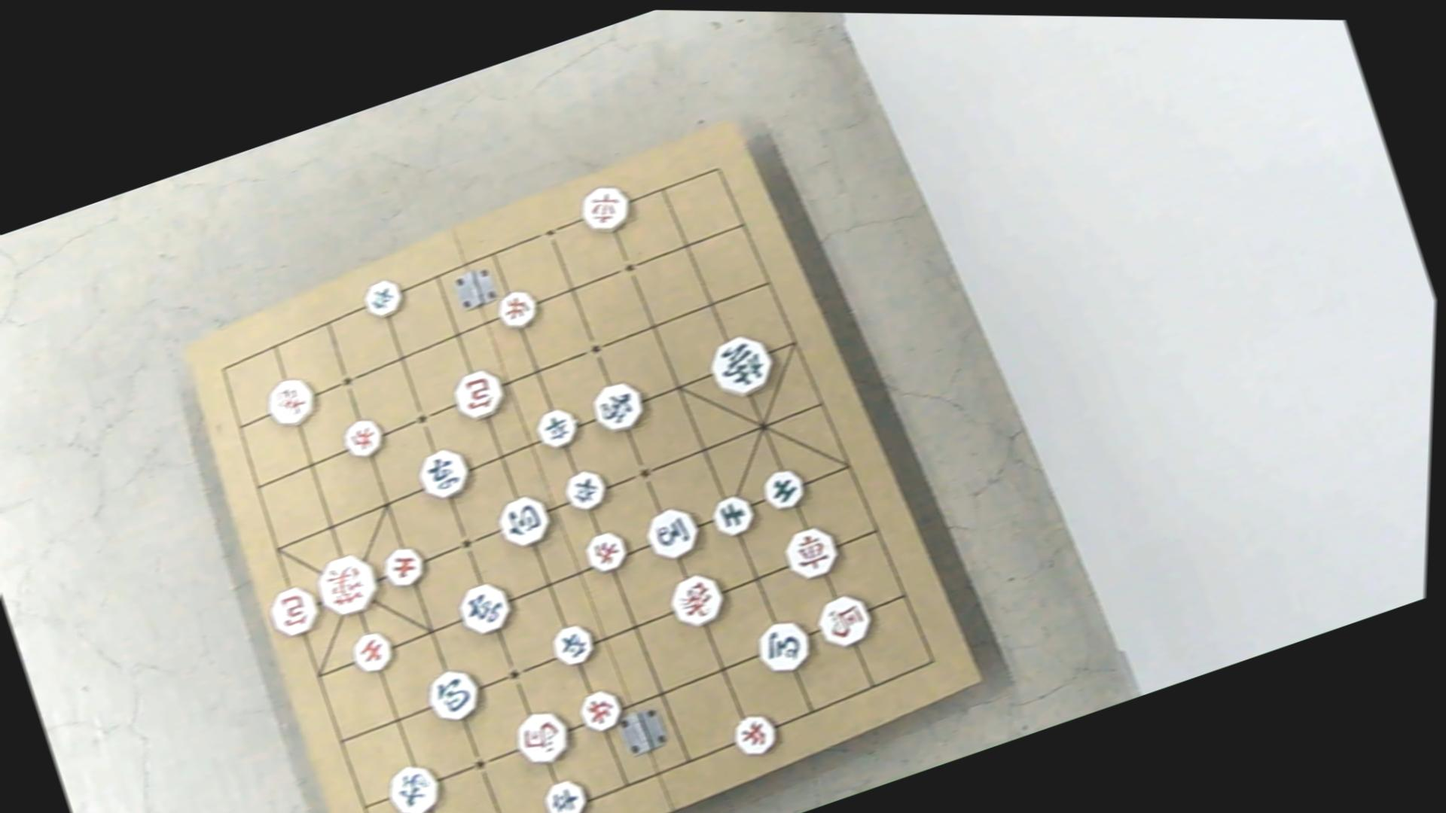cha_green: (453, 576, 518, 639), (414, 443, 477, 504)
cha_red: (778, 522, 843, 583), (574, 181, 635, 239)
jol_green: (545, 618, 596, 668), (561, 465, 612, 514), (529, 404, 580, 452), (361, 275, 408, 320), (540, 774, 592, 813)
jol_red: (725, 708, 779, 760), (572, 685, 625, 735), (579, 527, 629, 576), (334, 413, 383, 460), (490, 286, 540, 332)
ma_green: (751, 614, 816, 678), (639, 501, 703, 562)
ma_red: (511, 703, 578, 769), (812, 591, 877, 653)
po_green: (421, 662, 486, 726), (492, 492, 554, 552)
po_red: (450, 364, 513, 424), (260, 582, 322, 642)
sa_green: (759, 463, 810, 512), (709, 489, 758, 538)
sa_red: (378, 543, 430, 592), (346, 627, 395, 675)
sang_green: (586, 376, 648, 436), (382, 757, 446, 813)
sang_red: (663, 568, 728, 632), (261, 372, 320, 431)
wang_green: (703, 327, 780, 401)
wang_red: (307, 547, 383, 620)
